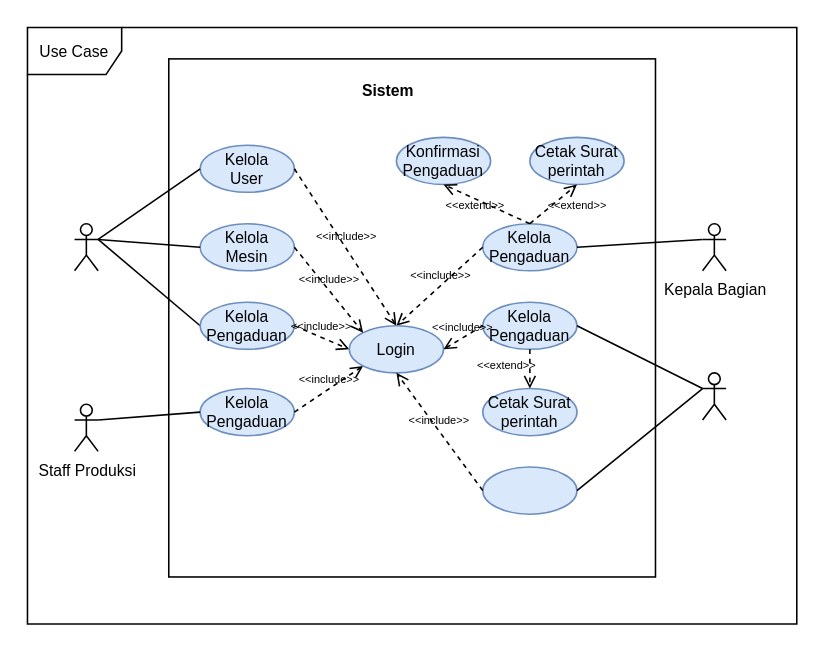
Some shapes in this 824 by 652 pixel diagram are drawn without their labels. Each missing label, with the centre of its shape:
"Admin" belongs at (85,246).
"Memperbaiki mesin" belongs at (529,490).
"Staff Mekanik" belongs at (713,395).
